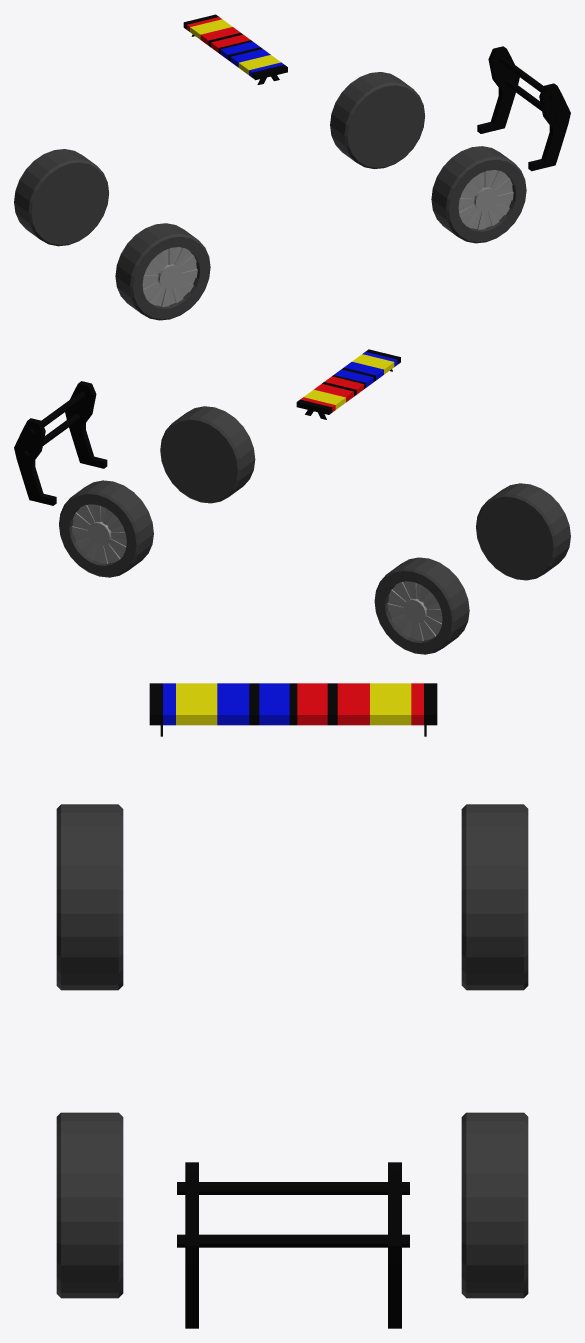
File: FordExpParts.fbx
The picture shows the model from 3 angles, top to bottom: view 1: azimuth 30°, elevation 25°; view 2: azimuth 150°, elevation 25°; view 3: azimuth 270°, elevation 25°; orthographic projection. The views are drawn at different scales.
Visible parts, largest first — view 1: FR, RR, RL, FL, FrontEndPushBumper, Signal; view 2: RL, FR, RR, FL, FrontEndPushBumper, Signal; view 3: FL, FR, RL, RR, Signal, FrontEndPushBumper.
Part boxes in pixels (bbox=[...]): FR: bbox=[431, 146, 526, 243]; RR: bbox=[115, 223, 210, 320]; RL: bbox=[14, 149, 108, 246]; FL: bbox=[330, 72, 424, 168]; FrontEndPushBumper: bbox=[477, 46, 570, 171]; Signal: bbox=[183, 14, 287, 84]; RL: bbox=[374, 557, 469, 654]; FR: bbox=[160, 406, 255, 503]; RR: bbox=[476, 483, 570, 580]; FL: bbox=[59, 480, 153, 577]; FrontEndPushBumper: bbox=[14, 381, 107, 505]; Signal: bbox=[296, 349, 400, 419]; FL: bbox=[461, 1112, 528, 1298]; FR: bbox=[56, 1112, 123, 1298]; RL: bbox=[461, 804, 528, 990]; RR: bbox=[56, 804, 123, 990]; Signal: bbox=[149, 683, 437, 736]; FrontEndPushBumper: bbox=[177, 1162, 409, 1328].
Bounding box in the file's own units: 194 × 449 × 183.
